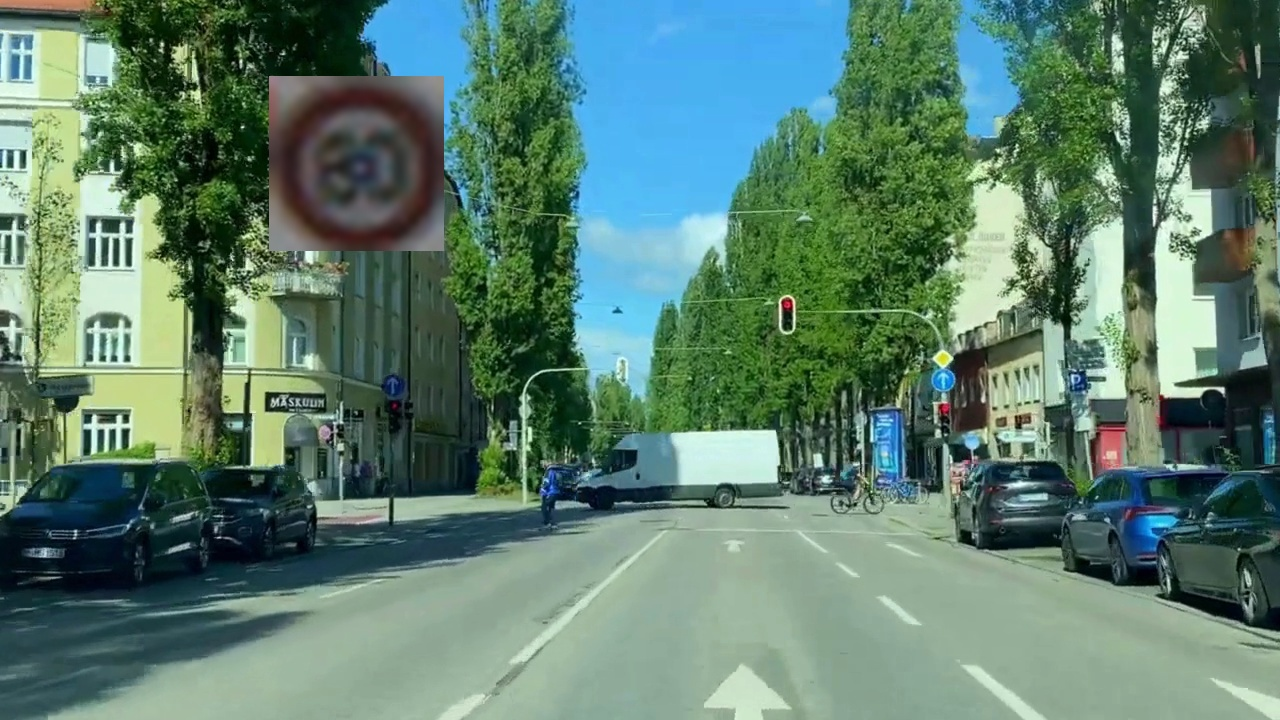Speed 80: (269, 76, 444, 251)
